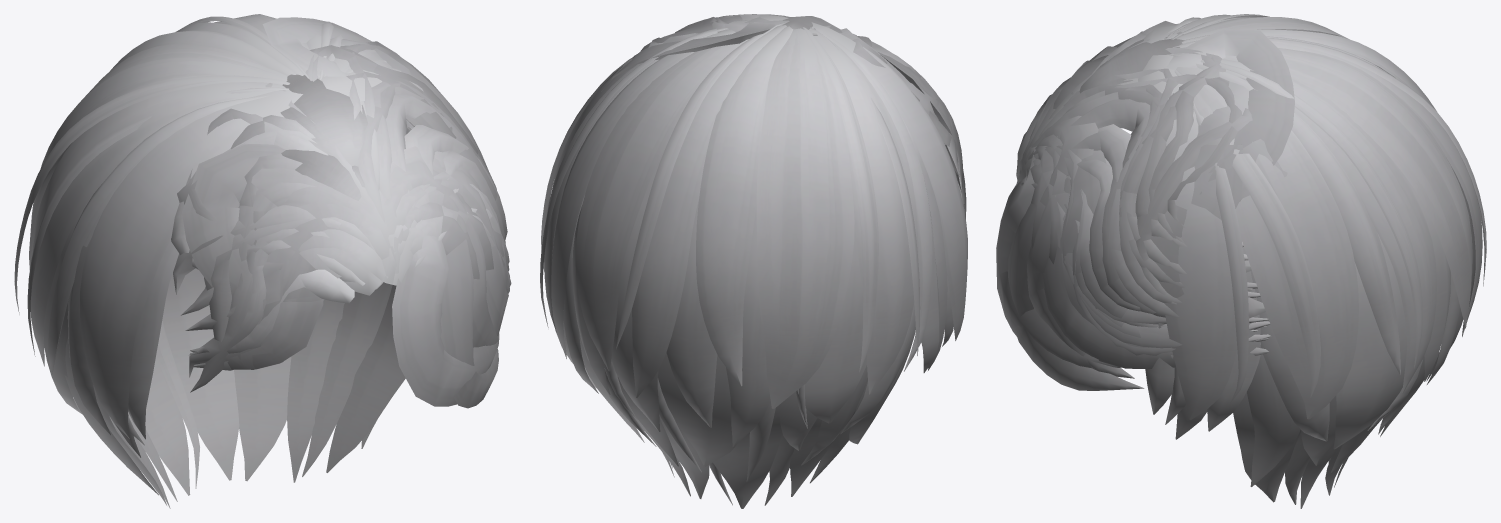
Rendered from vroid_hair_c11v5u.glb.
3 renders of one model, left to right at view 1: azimuth 30°, elevation 25°; view 2: azimuth 150°, elevation 25°; view 3: azimuth 270°, elevation 25°, orthographic. The views are drawn at different scales.
Visible parts, largest first — view 1: hair; view 2: hair; view 3: hair.
Part boxes in pixels (x1=…): hair: x1=14, y1=14, x2=511, y2=508; hair: x1=540, y1=14, x2=967, y2=508; hair: x1=996, y1=14, x2=1486, y2=508.
Bounding box in the file's own units: 0.2133 × 0.2386 × 0.2328.
1 material, 1 textured.
